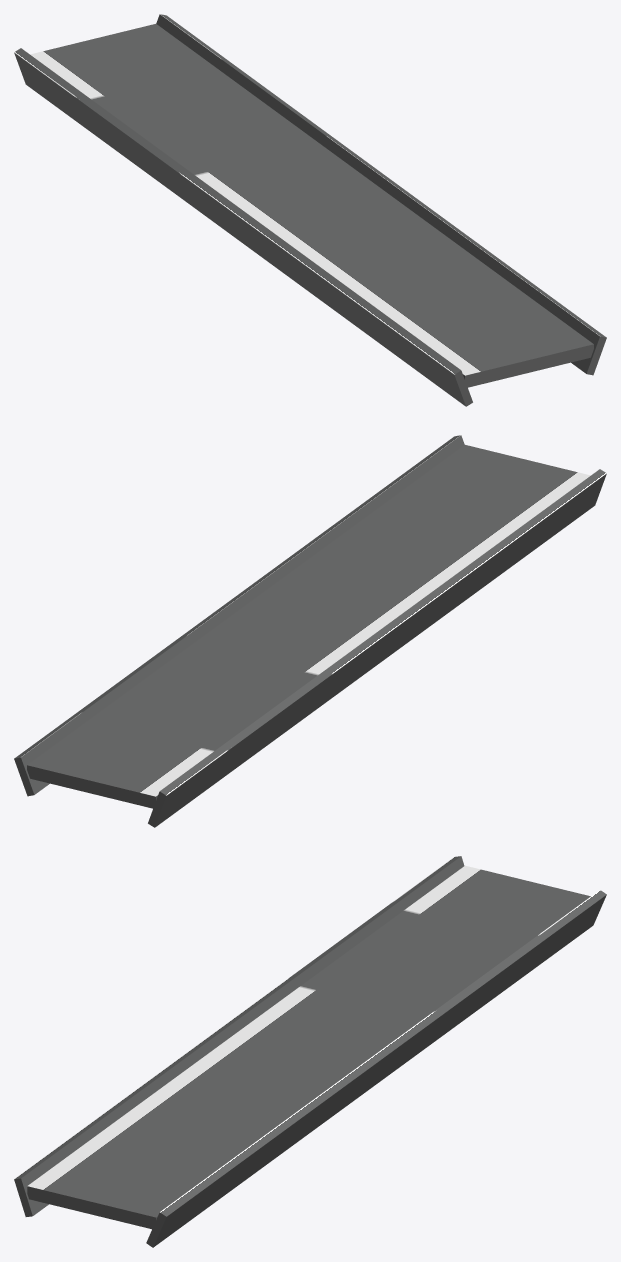
File: loadground.obj
The picture shows the model from 3 angles, top to bottom: view 1: azimuth 30°, elevation 25°; view 2: azimuth 150°, elevation 25°; view 3: azimuth 330°, elevation 25°; orthographic projection.
Parts seen in each view (by area): view 1: 立方体, 立方体.001, 立方体.002; view 2: 立方体, 立方体.001, 立方体.002; view 3: 立方体, 立方体.002, 立方体.001.
Part boxes in pixels (<box>): 立方体: <box>30,24,593,387</box>; 立方体.001: <box>14,48,472,406</box>; 立方体.002: <box>156,14,606,375</box>; 立方体: <box>27,445,590,808</box>; 立方体.001: <box>148,469,606,827</box>; 立方体.002: <box>14,435,464,796</box>; 立方体: <box>27,865,590,1229</box>; 立方体.002: <box>146,890,606,1247</box>; 立方体.001: <box>14,856,464,1216</box>.
Size of the model in its own units: 40.73 by 9.62 by 204.
1 material, 1 textured.
